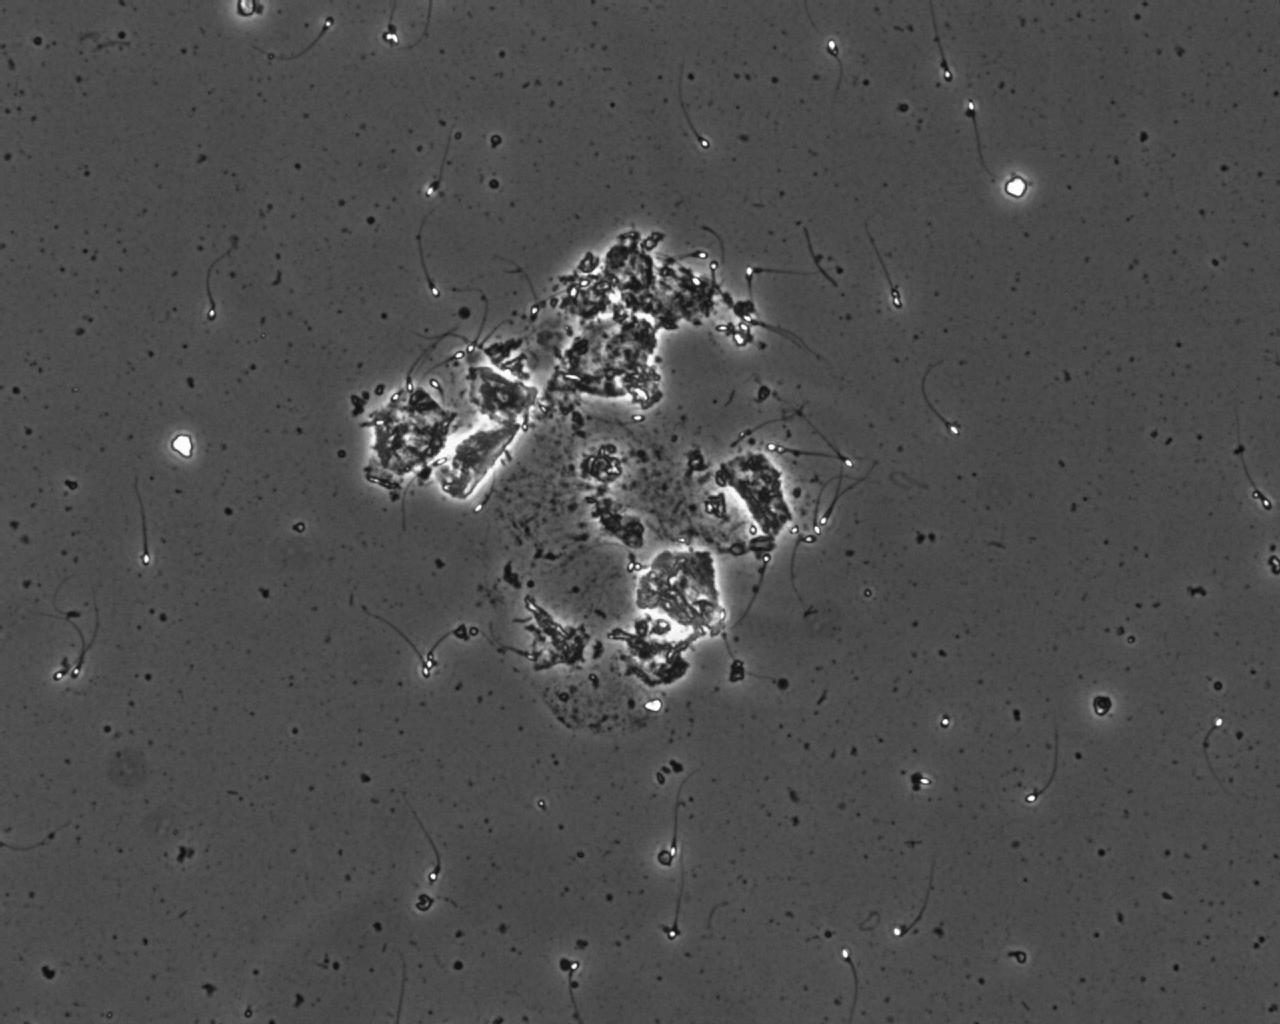cell: (167, 430, 197, 463), (1001, 172, 1032, 201), (1089, 690, 1115, 721), (232, 0, 260, 19), (654, 846, 677, 869)
